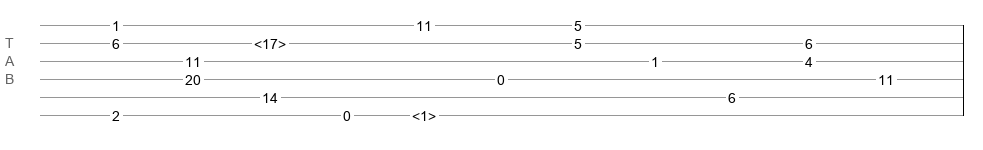0: (343, 108, 351, 118), (497, 72, 505, 82)
1: (112, 18, 120, 28), (651, 54, 659, 64)
11: (185, 54, 201, 64), (416, 18, 432, 28), (878, 72, 894, 82)
14: (262, 90, 278, 100)
2: (112, 108, 120, 118)
20: (185, 72, 201, 82)
4: (805, 54, 813, 64)
5: (574, 36, 582, 46), (574, 18, 582, 28)
6: (112, 36, 120, 46), (728, 90, 736, 100), (805, 36, 813, 46)
harmonic: (254, 36, 286, 46), (412, 108, 436, 118)
